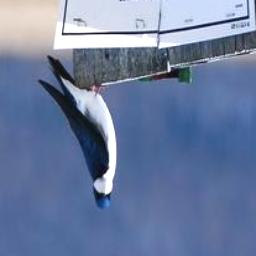Swallow: (40, 56, 119, 214)
